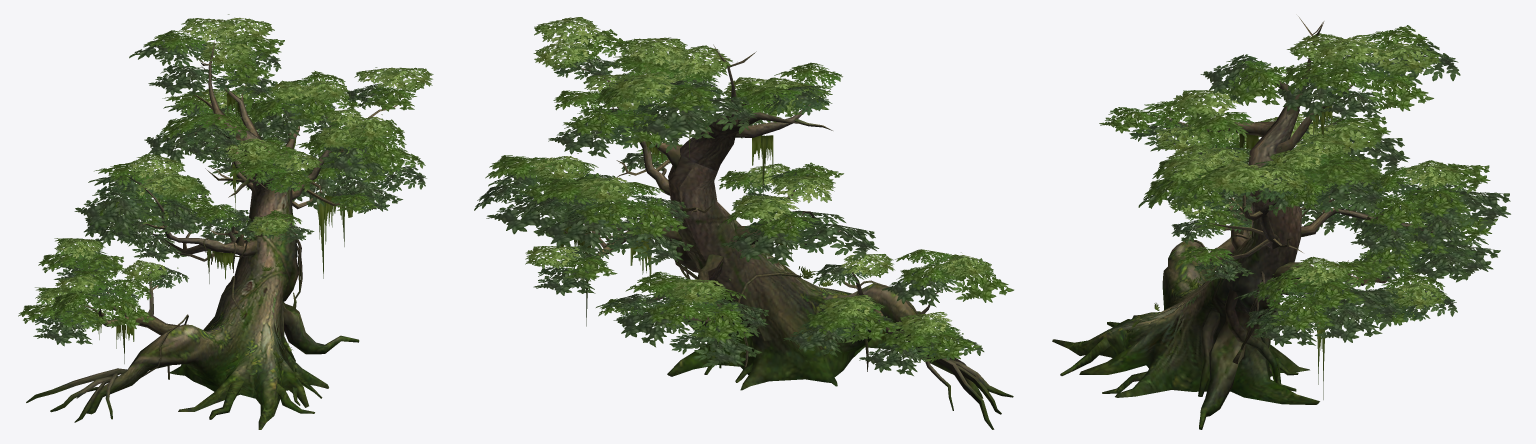
File: S_Tree_Green146.FBX
The picture shows the model from 3 angles, left to right: view 1: azimuth 30°, elevation 25°; view 2: azimuth 150°, elevation 25°; view 3: azimuth 270°, elevation 25°; orthographic projection. The views are drawn at different scales.
Visible parts, largest first — view 1: S_Tree_Green146; view 2: S_Tree_Green146; view 3: S_Tree_Green146.
Boxes of the visible parts, <box> form: S_Tree_Green146: <box>18,14,433,429</box>; S_Tree_Green146: <box>474,17,1013,429</box>; S_Tree_Green146: <box>1052,16,1510,429</box>.
Bounding box in the file's own units: 414 × 283 × 330.
